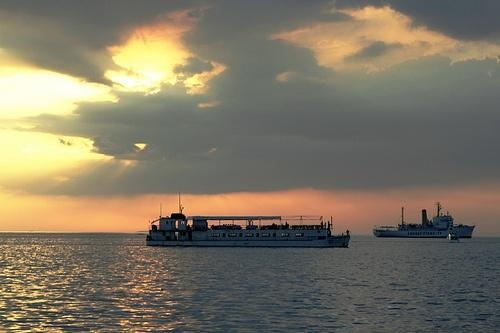boat: (144, 192, 353, 250), (375, 202, 478, 239)
